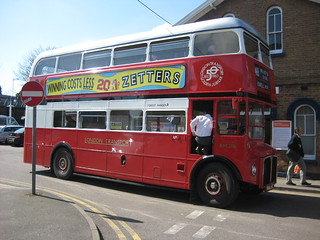bus: (22, 17, 278, 207)
